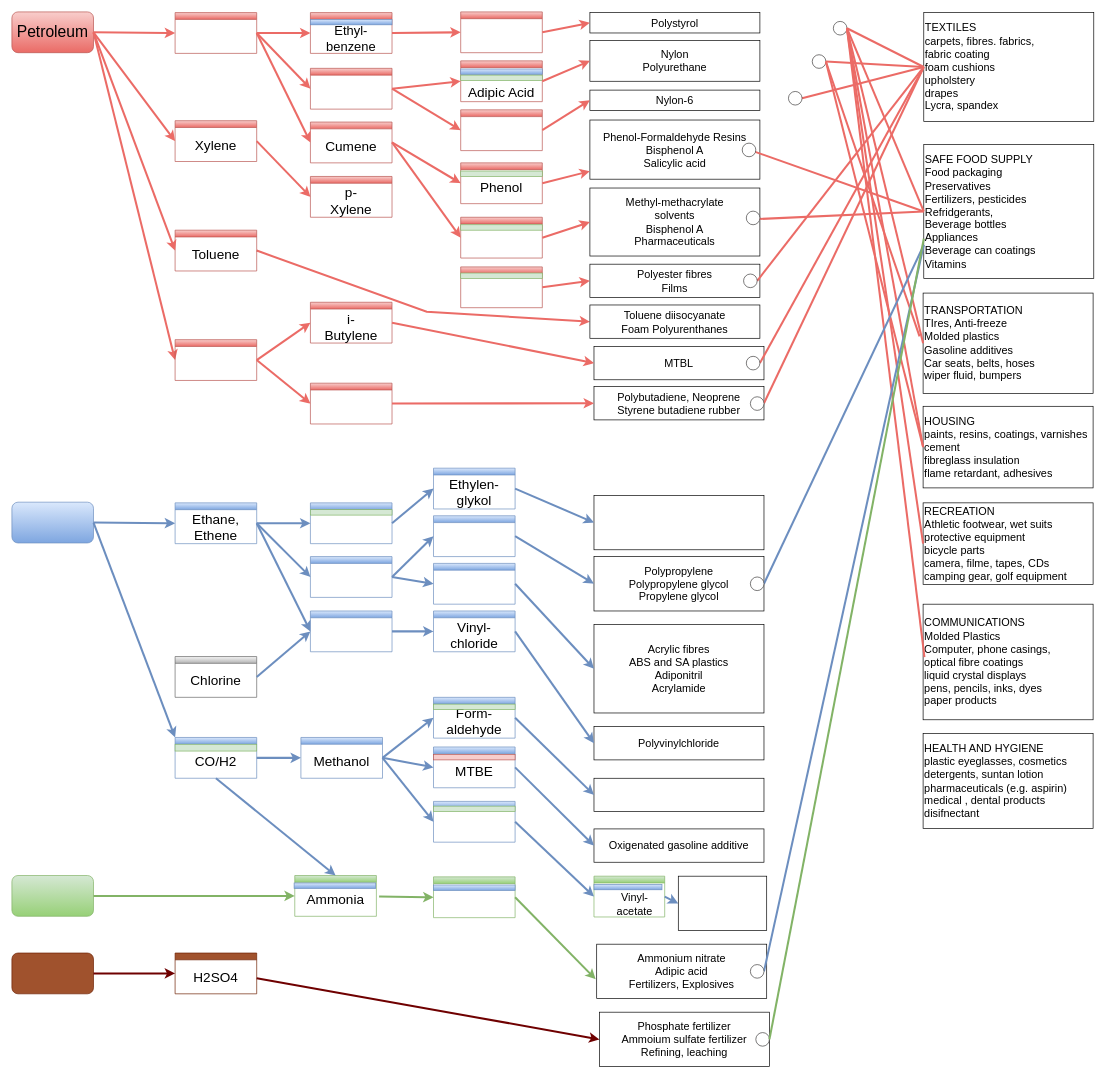
This 1106x1078 diagram has some shape labels left out. Each missing label, with the centre of its shape:
Acetic Acid: point (474, 821)
Acetone: point (501, 237)
Acrylo-nitril: point (474, 583)
Antifreeze Polyester files, fibres, Resins: point (678, 522)
Benzene: point (215, 32)
Buta-diene: point (351, 403)
Butanes: point (215, 359)
Capro-lactam: point (501, 130)
Cyclo-hexane: point (351, 88)
Ethylen-dichloride: point (351, 631)
Ethylene-oxid: point (351, 523)
Natural Gas: point (52, 522)
Nitric Acid: point (474, 897)
O2/N2: point (52, 895)
Polyvinylacetate Polyvinyl alcohol Polyvinyl butryral: point (722, 903)
Propylen-oxid: point (474, 536)
Propylene: point (351, 576)
SO2: point (52, 973)
Styrol: point (501, 32)
Terephtalic acid: point (501, 287)
Urea-Formaldehyde resins Phenol-formaldehyde resins: point (678, 795)
